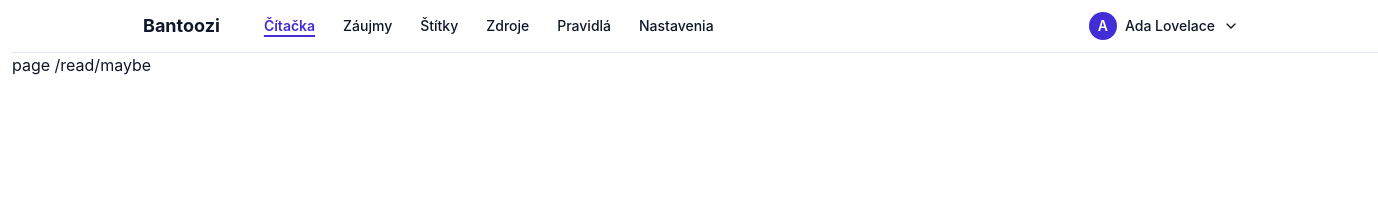
it: AppShellLayout › names the plan in Slovak
Click the button with aria-label "Ponuka účtu: Ada Lovelace" at (1164, 26), box left=1073, top=4, right=1255, bottom=48
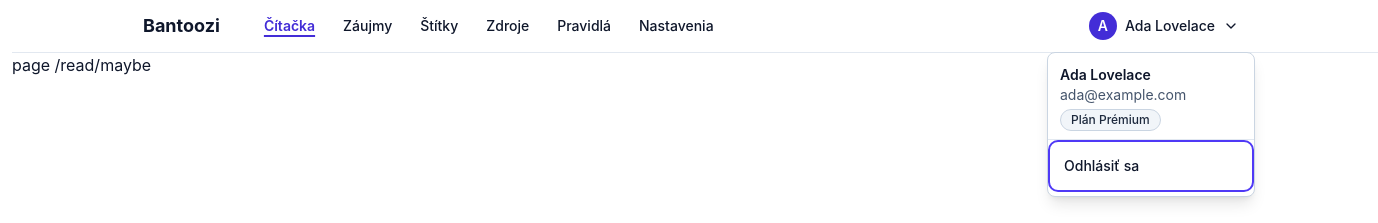
Result: the text "Plán Prémium" is shown at left=1060, top=109, right=1161, bottom=131
